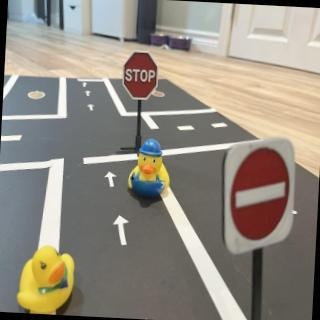duck_regular: (17, 245, 77, 316)
duck_specialty: (128, 139, 173, 204)
road_oneway: (112, 211, 133, 250), (104, 169, 119, 192), (87, 102, 98, 116), (85, 90, 94, 100), (83, 80, 90, 89)
sign_noentry: (218, 136, 300, 261)
sign_stop: (123, 53, 161, 105)
